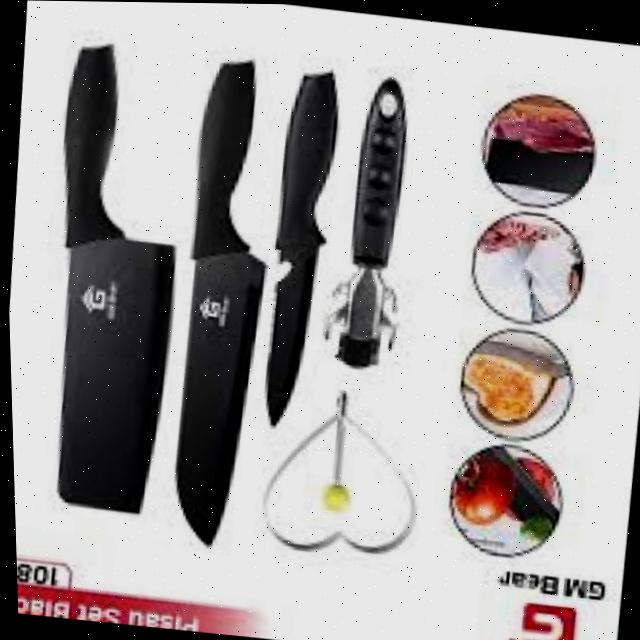knife: (29, 40, 200, 517), (156, 52, 291, 548), (251, 63, 350, 429)
